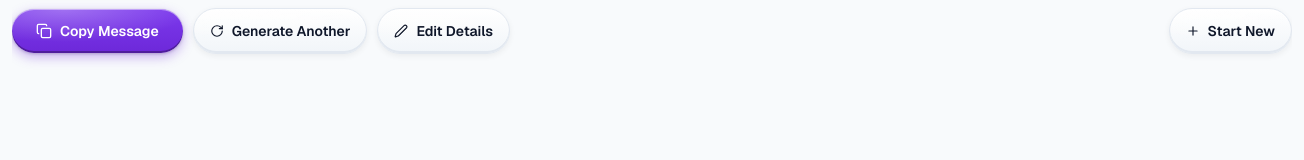
Test case: ResultActions › copy interaction works and shows accessible feedback
This screenshot has width=1304, height=160.
Click the button "Copy Message".
click(97, 31)  # box [12,9,183,53]
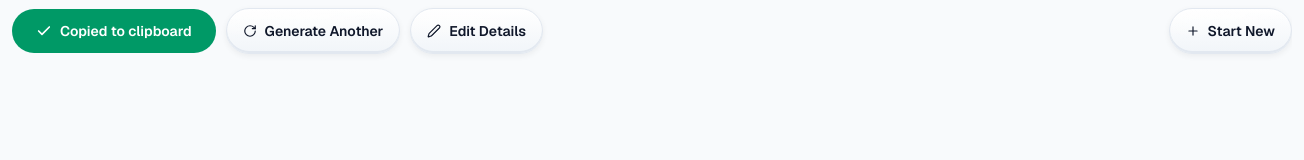
Check: the text "Copied to clipboard" is shown, box [60,21,192,41]
